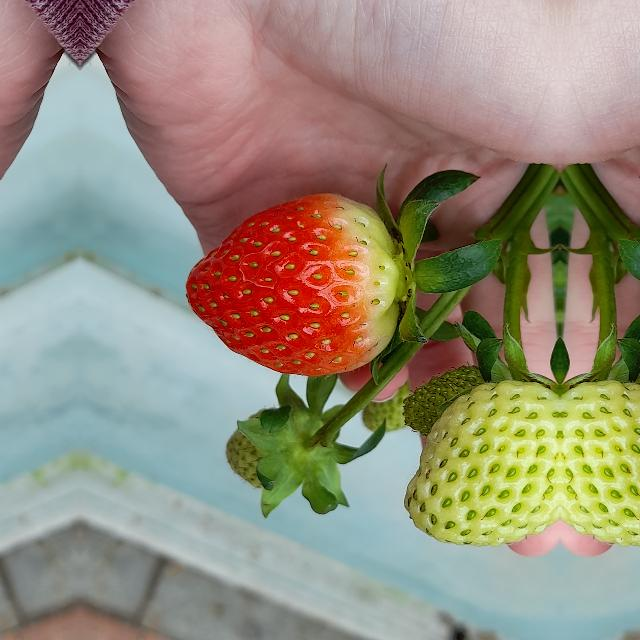Health_100: (186, 192, 407, 376)
Health_25: (405, 378, 559, 544), (561, 377, 640, 544), (224, 411, 320, 505), (400, 363, 496, 439)
